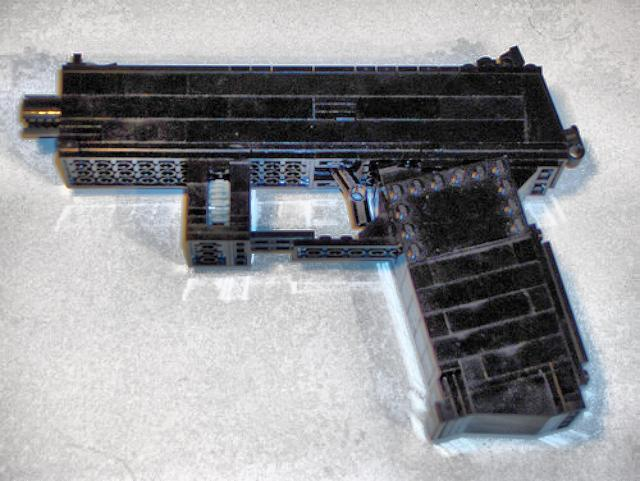pistol: (19, 44, 588, 440)
